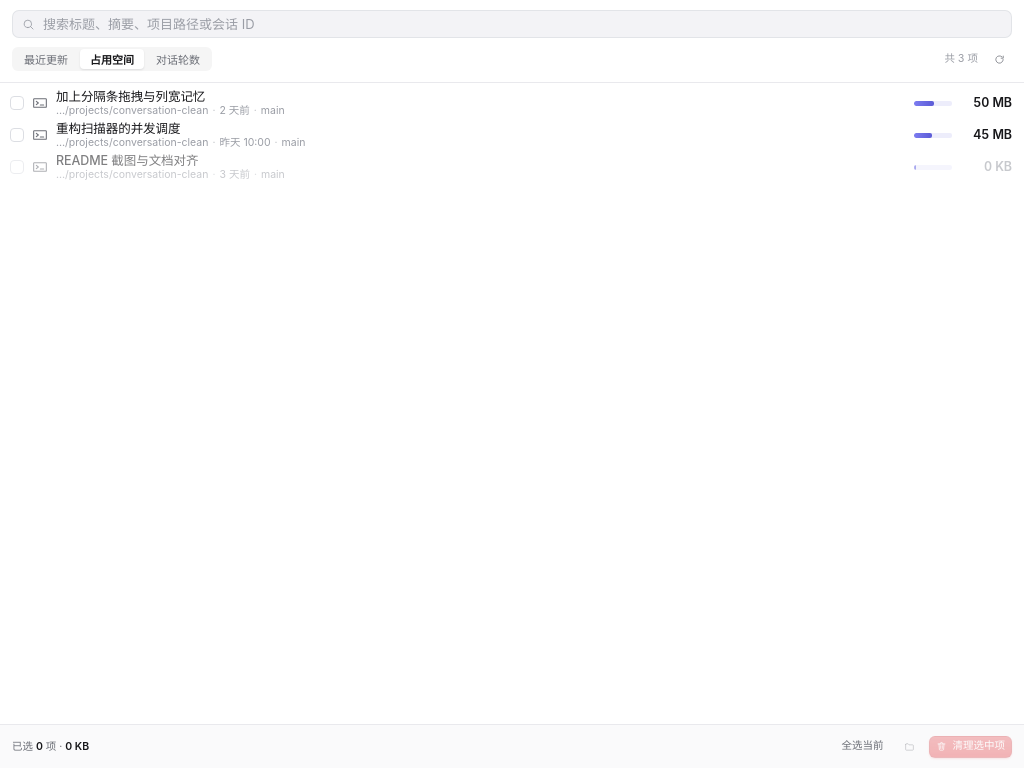
Test: ConversationListView · 批量选择 › 勾选两条：批量条读数跟着变，清理按钮带上条数
The width and height of the screenshot is (1024, 768).
Click the checkbox named "选择会话：加上分隔条拖拽与列宽记忆" at [17, 103], box [10,96,24,110]
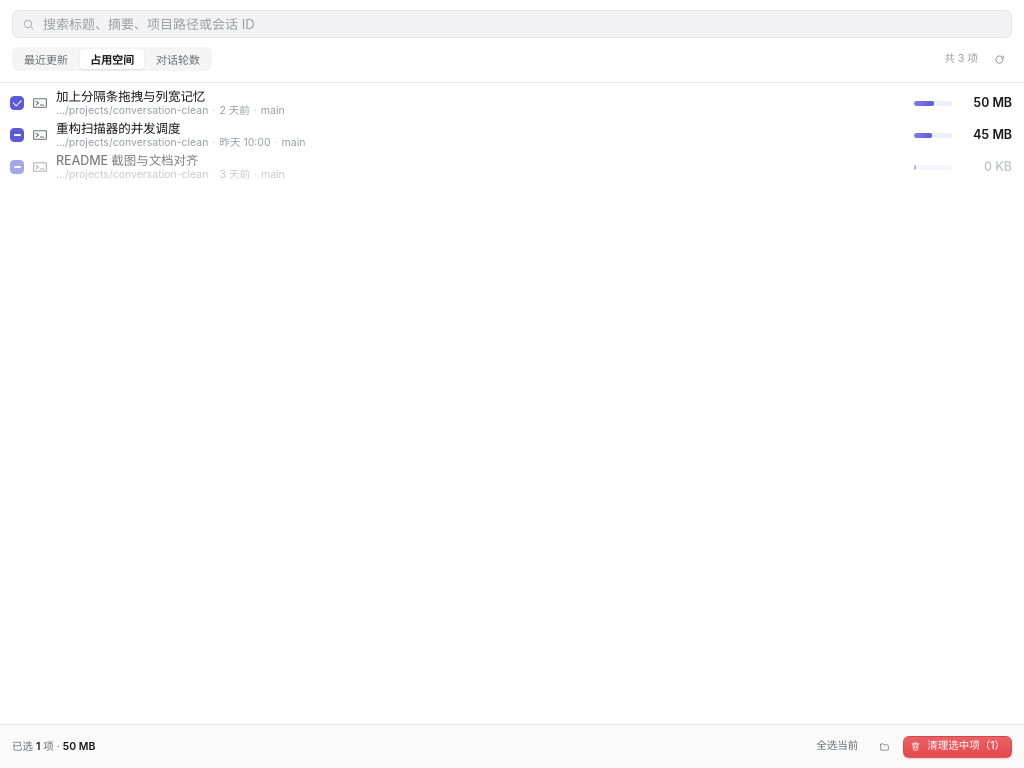
Click the checkbox named "选择会话：重构扫描器的并发调度" at [17, 135], box [10,128,24,142]
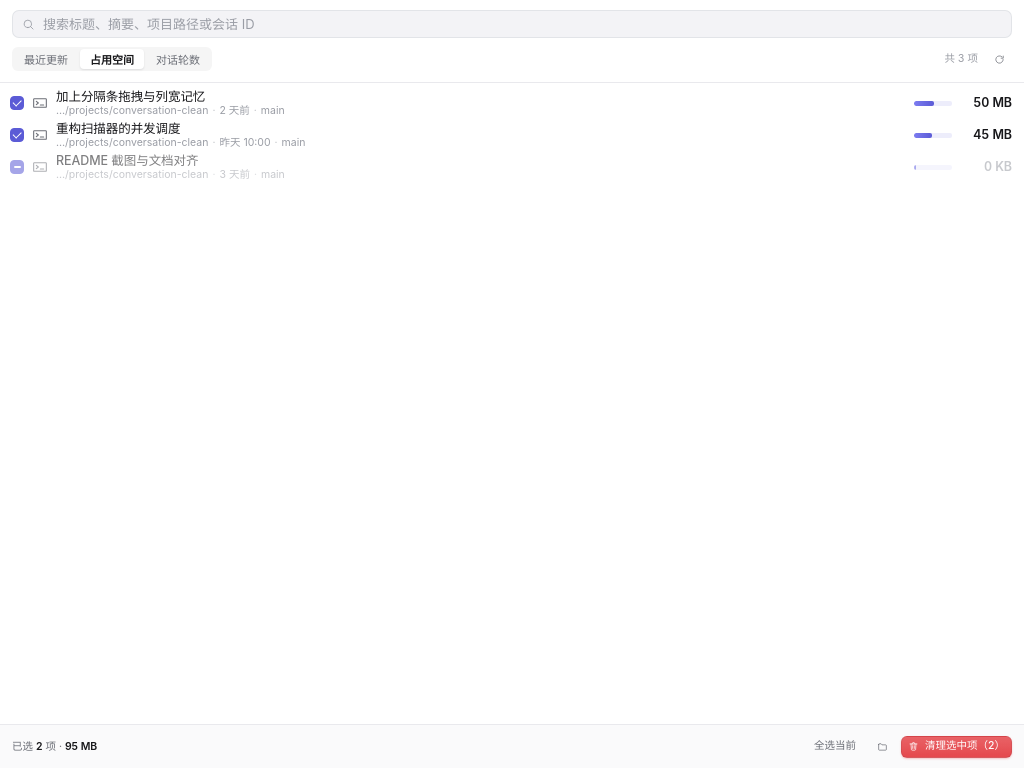
Now the text "已选 2 项 · 95 MB" is shown, box [12,739,97,754]
Now the button "清理选中项（2）" is shown, box [901,736,1012,758]
